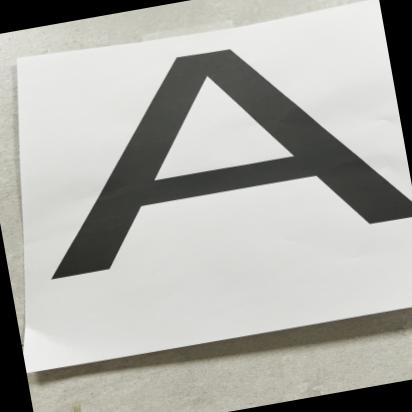seat: (0, 1, 412, 295)
